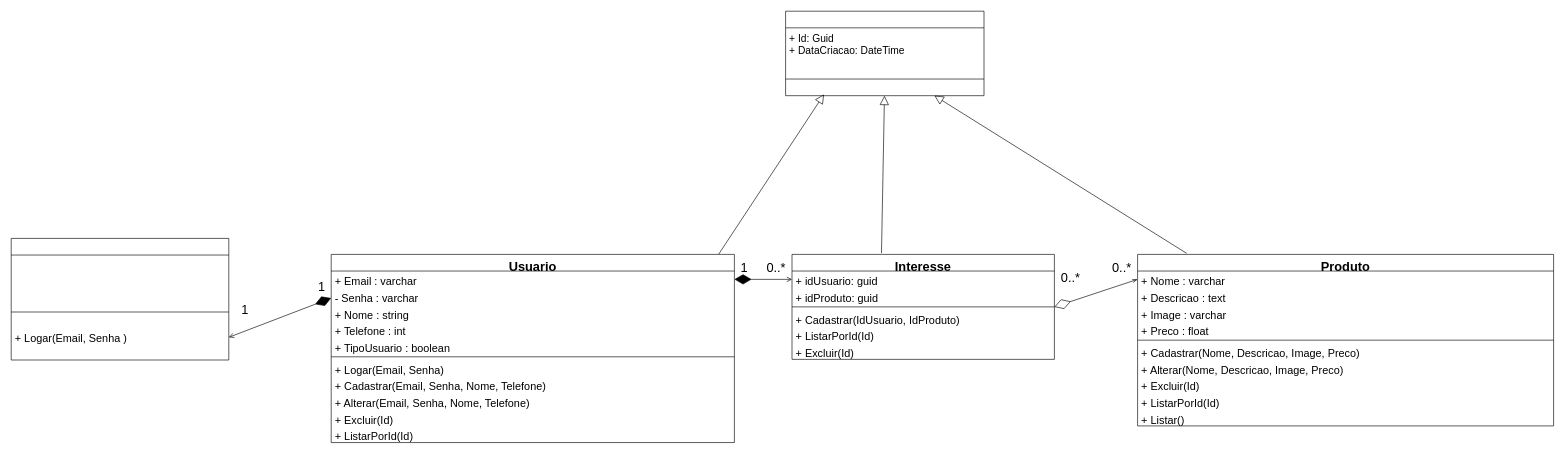
Some shapes in this 1565 by 456 pixel diagram are drawn without their labels. Each missing label, with the box of its shape:
Autenticacao: (11, 238, 229, 360)
Base: (785, 11, 984, 96)
